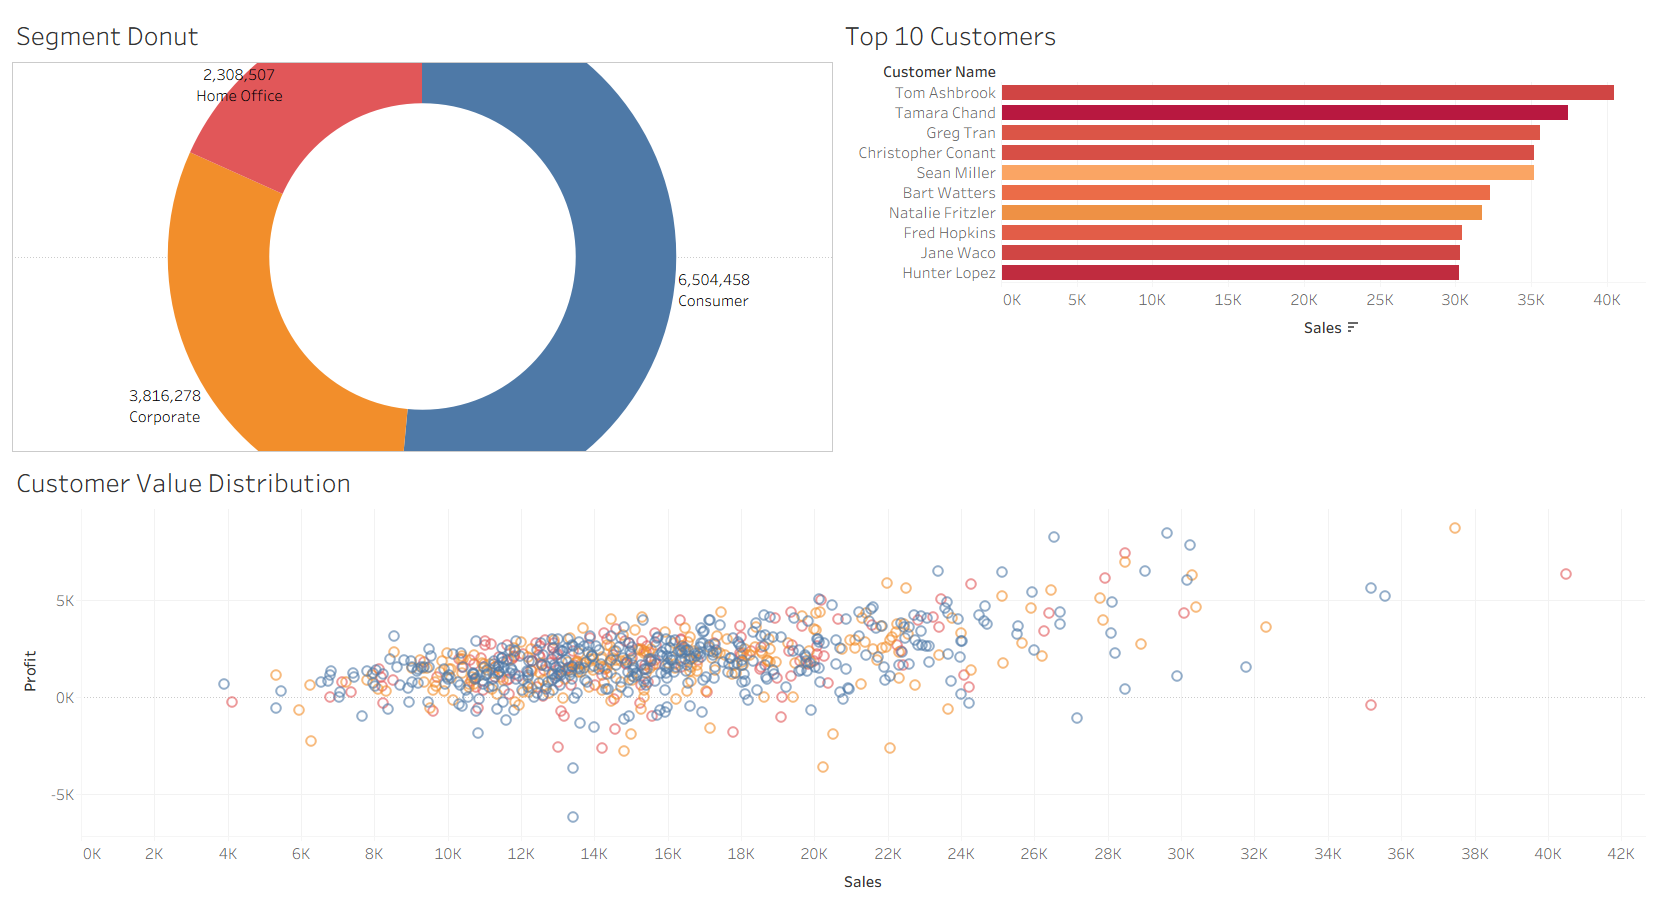

This screenshot's page, from the dashboard's own definition file:
{"tool":"tableau","page":{"name":"Dashboard 2","canvas":[1000,1000],"units":"permille","ordinal":1},"visuals":[{"type":"worksheet","title":"Segment_Donut","mark":"Automatic","rows":["Calculation_4721071076143109","Calculation_4721071076192263"],"box":[4.7,8.8,500.2,491.2]},{"type":"worksheet","title":"T10MVPC","mark":"Automatic","rows":["Customer Name"],"cols":["Sales"],"box":[504.9,8.8,490.5,491.2]},{"type":"worksheet","title":"CustomerValue","mark":"Automatic","rows":["Profit"],"cols":["Sales"],"box":[4.7,500,990.6,491.2]}]}

Visuals, with their boxes on the dashboard's canvas, which has no fixed pixel size, in thousandths of its width and height (x1, y1, x2, y2). These are canvas units, not pixel positions in the 1657x911 screenshot, which may show the page scaled, cropped or inside an application window:
"Segment_Donut" worksheet: [x1=5, y1=9, x2=505, y2=500]
"T10MVPC" worksheet: [x1=505, y1=9, x2=995, y2=500]
"CustomerValue" worksheet: [x1=5, y1=500, x2=995, y2=991]
